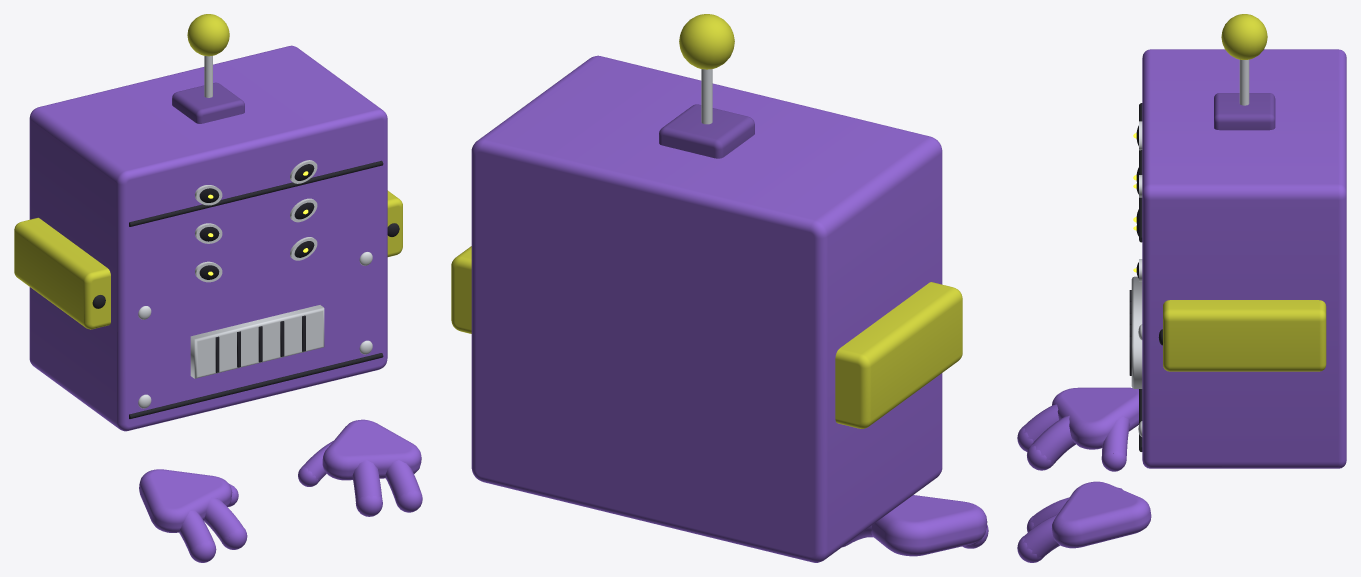
Rendered from model-seed-3.glb.
3 renders of one model, left to right at view 1: azimuth 30°, elevation 25°; view 2: azimuth 150°, elevation 25°; view 3: azimuth 270°, elevation 25°, orthographic. The views are drawn at different scales.
Parts seen in each view (by area): view 1: head, ear-0, mouth, hand-0, hand-1, antenna-base-0, seam-1, antenna-ball-0, seam-0, finger-1-1, finger-0-1, finger-1-0 (+3 smaller); view 2: head, ear-0, hand-0, antenna-base-0, antenna-ball-0, ear-1, antenna-stem-0; view 3: head, ear-1, hand-1, hand-0, antenna-base-0, antenna-ball-0, finger-0-1, mouth, finger-1-0, thumb-0, finger-0-0, antenna-stem-0 (+1 smaller).
Part boxes in pixels (bbox=[...]): head: bbox=[29, 45, 387, 431]; ear-0: bbox=[14, 217, 110, 329]; mouth: bbox=[190, 305, 324, 378]; hand-0: bbox=[139, 469, 232, 532]; hand-1: bbox=[322, 419, 421, 480]; antenna-base-0: bbox=[172, 82, 244, 123]; seam-1: bbox=[129, 353, 383, 418]; antenna-ball-0: bbox=[187, 14, 229, 56]; seam-0: bbox=[129, 160, 383, 226]; finger-1-1: bbox=[352, 459, 382, 516]; finger-0-1: bbox=[203, 497, 247, 549]; finger-1-0: bbox=[385, 460, 422, 512]; head: bbox=[471, 55, 942, 562]; ear-0: bbox=[835, 282, 962, 428]; hand-0: bbox=[871, 495, 987, 556]; antenna-base-0: bbox=[659, 104, 754, 158]; antenna-ball-0: bbox=[679, 14, 734, 69]; ear-1: bbox=[451, 246, 471, 333]; antenna-stem-0: bbox=[701, 69, 712, 124]; head: bbox=[1142, 49, 1346, 468]; ear-1: bbox=[1163, 300, 1326, 371]; hand-1: bbox=[1051, 481, 1151, 548]; hand-0: bbox=[1052, 387, 1138, 449]; antenna-base-0: bbox=[1214, 93, 1275, 130]; antenna-ball-0: bbox=[1221, 14, 1267, 59]; finger-0-1: bbox=[1027, 415, 1075, 470]; mouth: bbox=[1131, 276, 1142, 388]; finger-1-0: bbox=[1017, 514, 1059, 562]; thumb-0: bbox=[1101, 416, 1129, 471]; finger-0-0: bbox=[1017, 404, 1058, 451]; antenna-stem-0: bbox=[1239, 59, 1249, 105].
Size of the model in its own units: 0.59 by 0.7954 by 0.4839.
